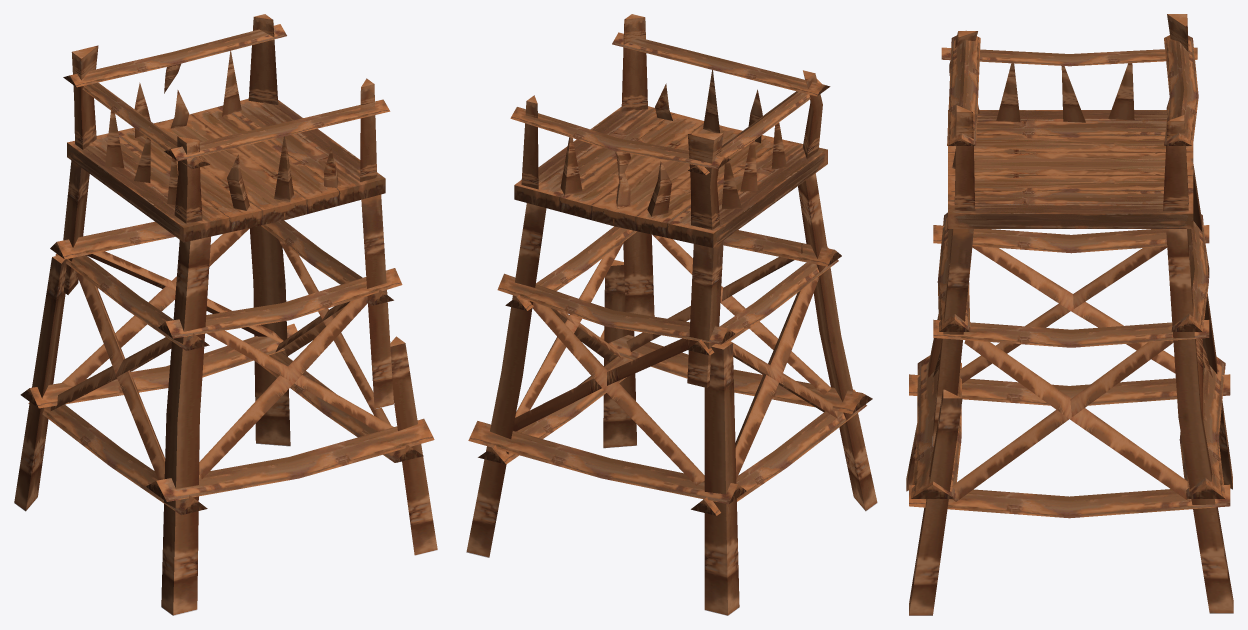
File: oMscWatchtower01.FBX
The picture shows the model from 3 angles, left to right: view 1: azimuth 30°, elevation 25°; view 2: azimuth 150°, elevation 25°; view 3: azimuth 270°, elevation 25°; orthographic projection. The views are drawn at different scales.
Parts seen in each view (by area): view 1: oMscWatchtower01; view 2: oMscWatchtower01; view 3: oMscWatchtower01.
Part boxes in pixels (x1,y1,x2,y2): oMscWatchtower01: (14,14,437,615); oMscWatchtower01: (466,14,877,615); oMscWatchtower01: (906,14,1233,615).
Bounding box in the file's own units: 25.87 × 42.12 × 25.89.
1 material, 1 textured.
